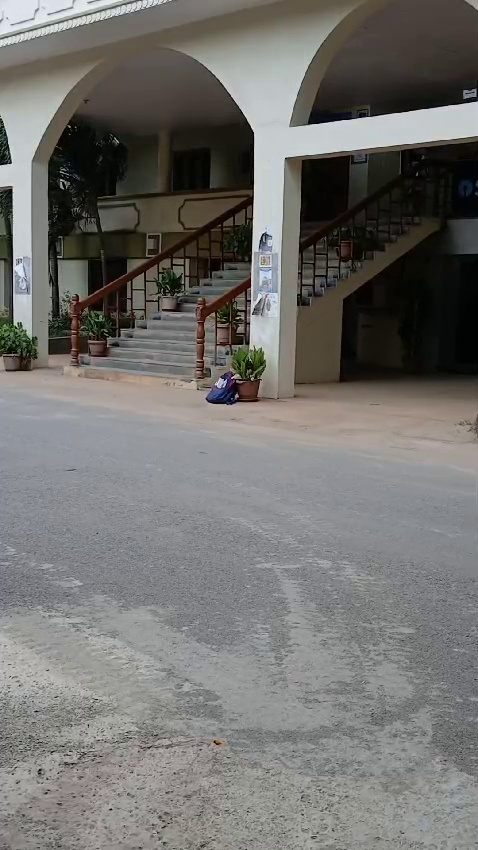bag: (198, 368, 239, 409)
